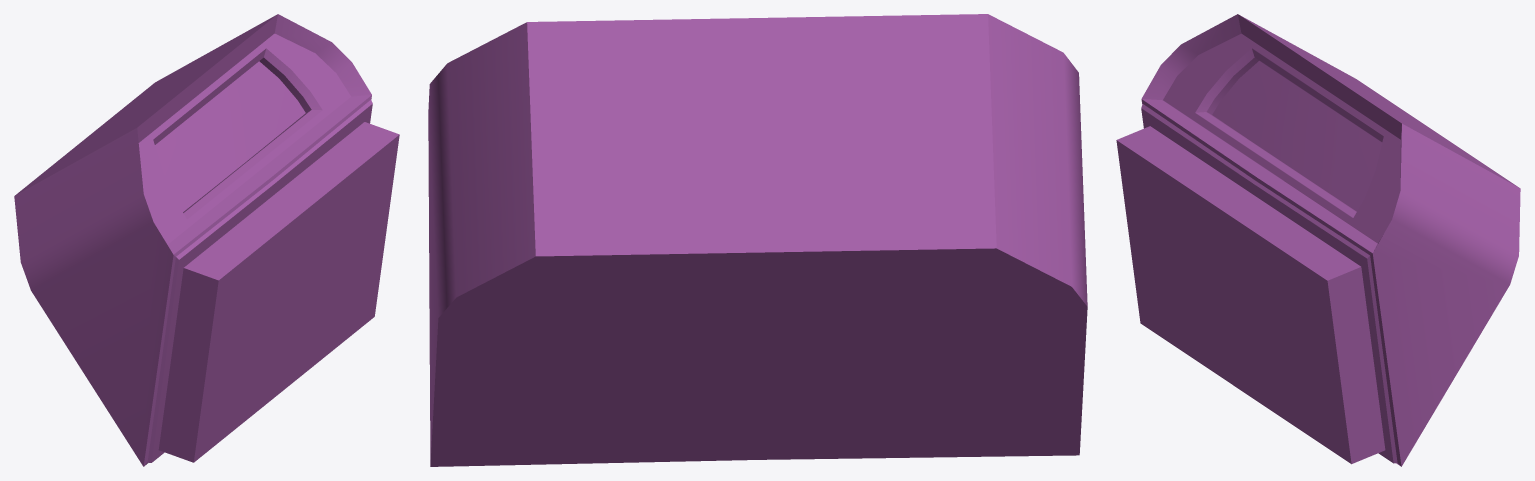
The model's file is Screen.fbx.
The picture shows the model from 3 angles, left to right: view 1: azimuth 30°, elevation 25°; view 2: azimuth 150°, elevation 25°; view 3: azimuth 270°, elevation 25°; orthographic projection. The views are drawn at different scales.
Visible parts, largest first — view 1: Base_Geo, Glass_Geo; view 2: Base_Geo; view 3: Base_Geo, Glass_Geo.
Boxes of the visible parts, x1,y1,x2,y2 form: Base_Geo: [14, 14, 399, 466]; Glass_Geo: [155, 61, 305, 211]; Base_Geo: [428, 14, 1087, 466]; Base_Geo: [1116, 14, 1520, 466]; Glass_Geo: [1212, 60, 1382, 211].
Bounding box in the file's own units: 48.49 × 36.4 × 42.74.
